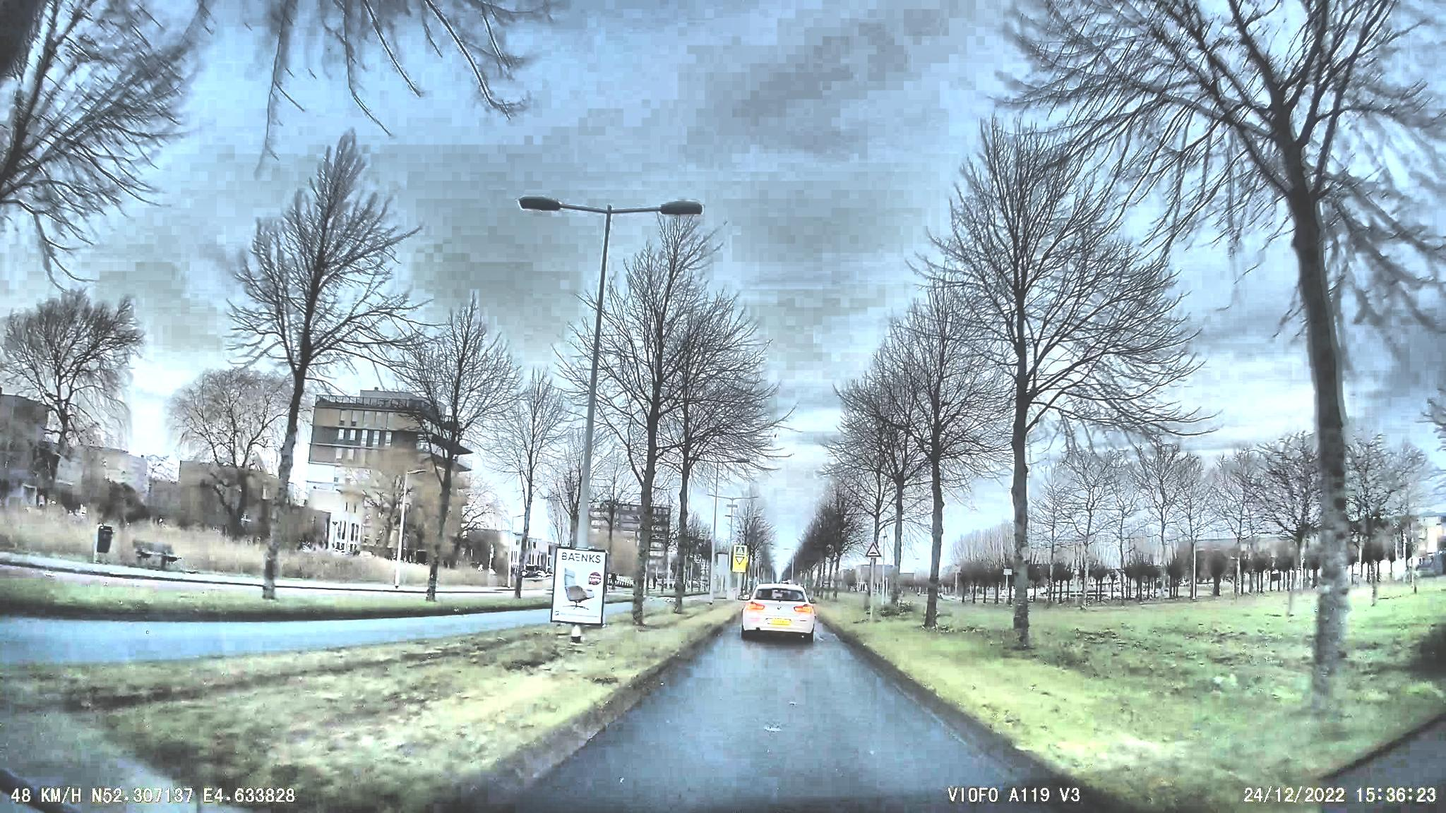Roads: (471, 615, 1098, 813)
